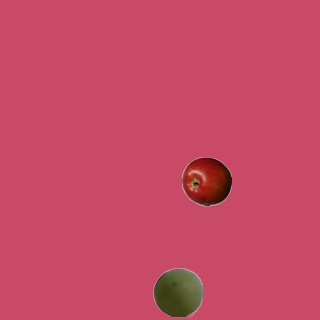Apple Braeburn: (181, 156, 231, 206)
Grape White 4: (152, 267, 202, 317)
